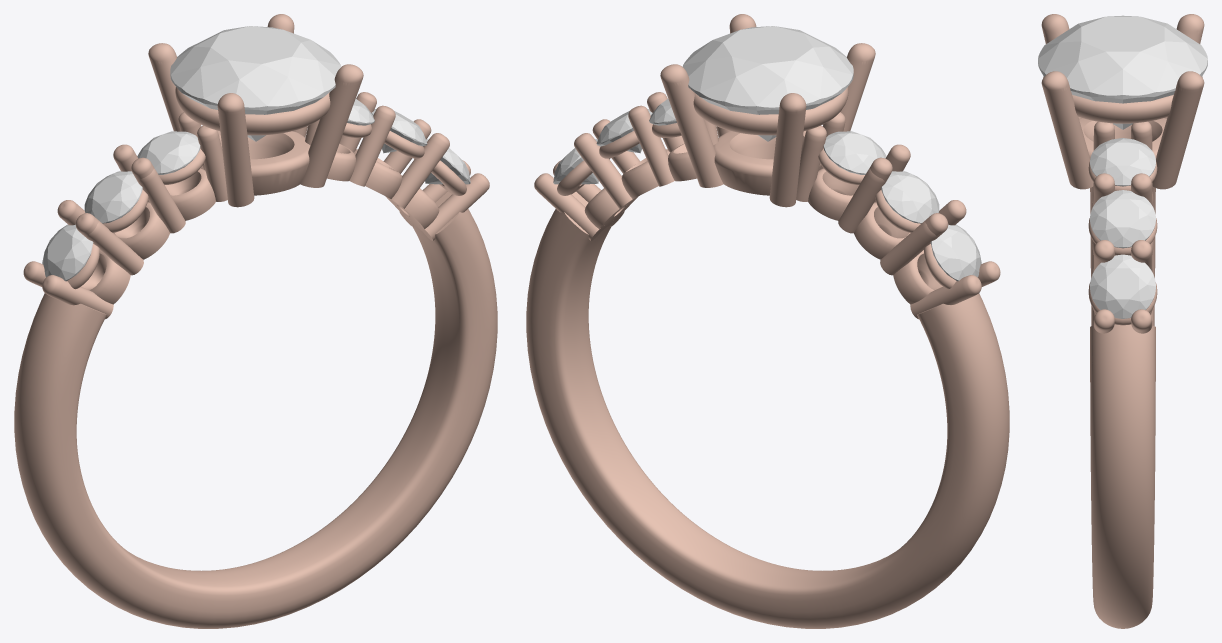
File: diamond-round-rosegold-4prong-straightband-3stone.glb
3 views of the same model, side by side, from view 1: azimuth 30°, elevation 25°; view 2: azimuth 150°, elevation 25°; view 3: azimuth 270°, elevation 25° (orthographic).
Visible parts, largest first — view 1: metal, stone, side.001, side.002, side, side.004; view 2: metal, stone, side.001, side.002, side, side.004, side.005; view 3: metal, stone, side.005, side.004, side.003.
Part boxes in pixels (x1,y1,x2,y2): metal: (14,14,497,628); stone: (170,26,341,141); side.001: (84,171,142,223); side.002: (42,224,93,281); side: (137,131,200,174); side.004: (371,109,427,153); metal: (526,14,1009,628); stone: (682,26,853,141); side.001: (881,171,939,223); side.002: (930,224,981,281); side: (823,131,886,174); side.004: (596,109,652,153); side.005: (553,139,600,184); metal: (1041,14,1204,628); stone: (1038,15,1207,129); side.005: (1090,254,1155,318); side.004: (1090,190,1155,248); side.003: (1090,138,1155,186).
Size of the model in its own units: 20.49 by 23.81 by 6.44.
